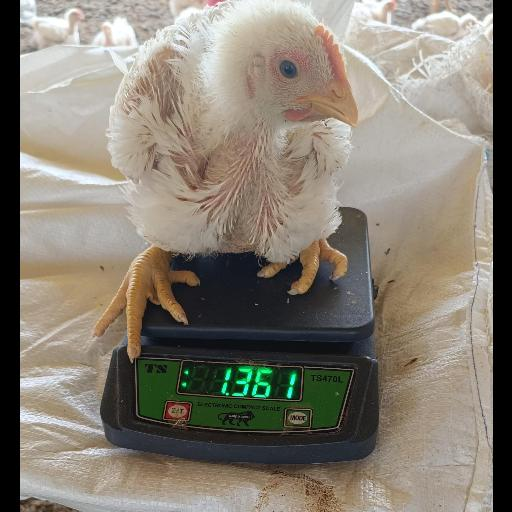chick: (94, 1, 358, 359)
